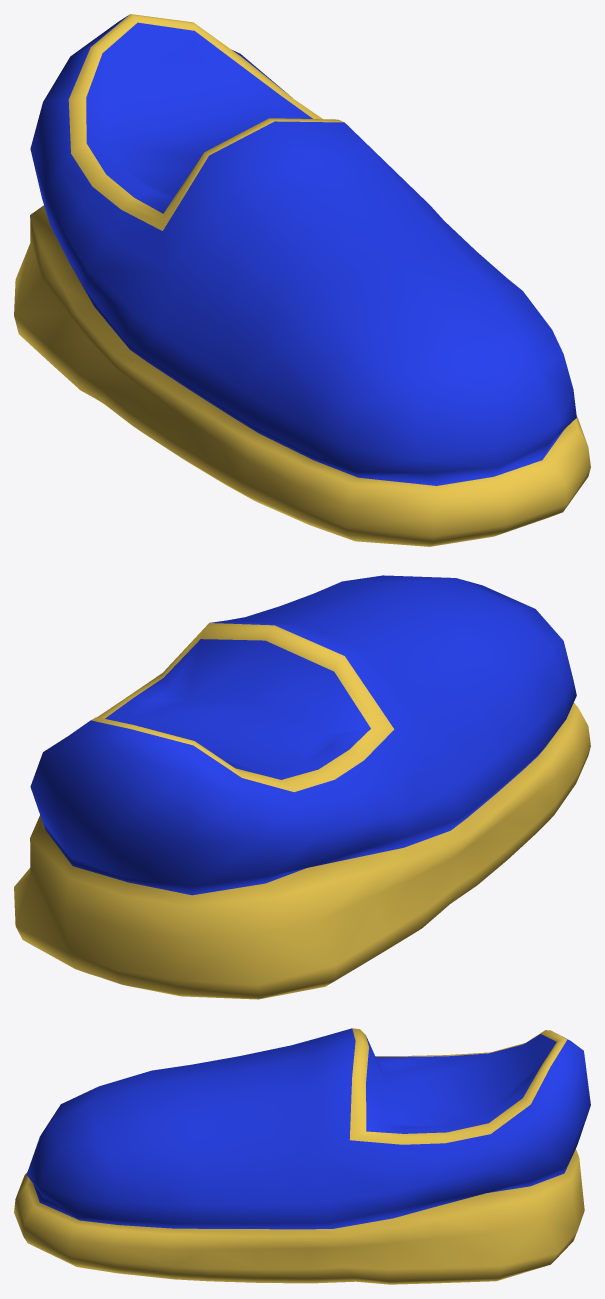
File: Shoe-02.fbx
The picture shows the model from 3 angles, top to bottom: view 1: azimuth 30°, elevation 25°; view 2: azimuth 150°, elevation 25°; view 3: azimuth 270°, elevation 25°; orthographic projection. The views are drawn at different scales.
Visible parts, largest first — view 1: Shoe-02; view 2: Shoe-02; view 3: Shoe-02.
Boxes of the visible parts, x1=… form: Shoe-02: x1=14, y1=14, x2=590, y2=546; Shoe-02: x1=14, y1=575, x2=590, y2=999; Shoe-02: x1=14, y1=1028, x2=590, y2=1284.
Size of the model in its own units: 1.08 by 0.7587 by 2.06.
